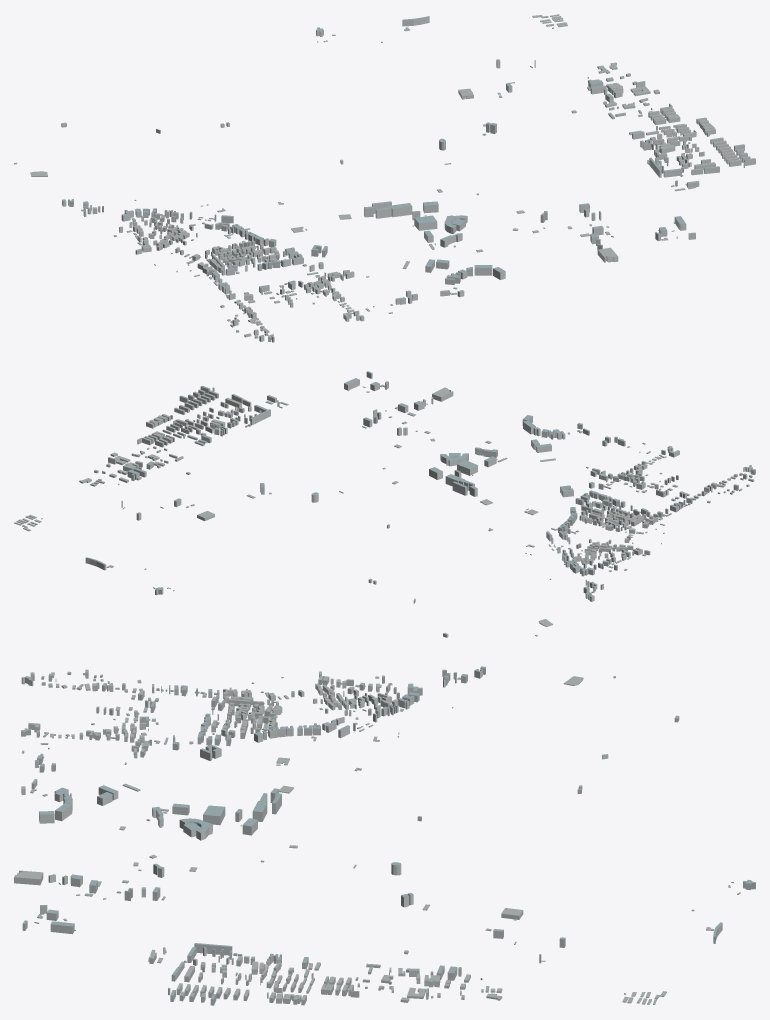
File: far.glb
3 renders of one model, top to bottom at view 1: azimuth 30°, elevation 25°; view 2: azimuth 150°, elevation 25°; view 3: azimuth 270°, elevation 25°, orthographic. The views are drawn at different scales.
Size of the model in its own units: 2103 by 32.1 by 1981.
